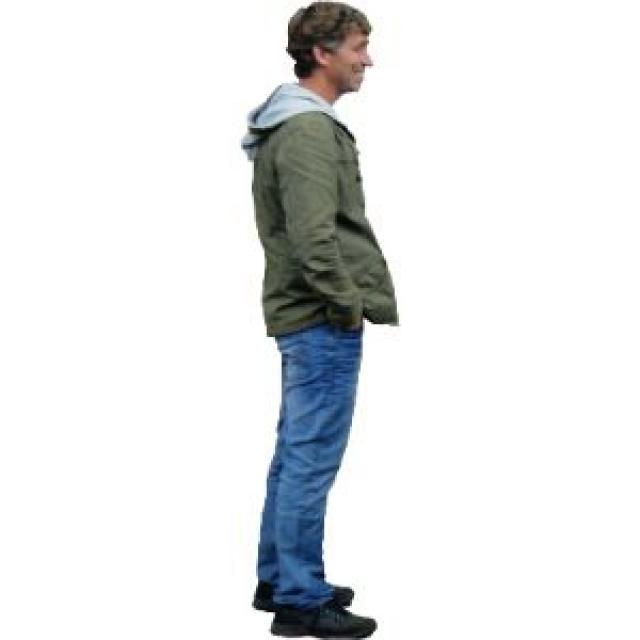adult: (215, 0, 446, 640)
